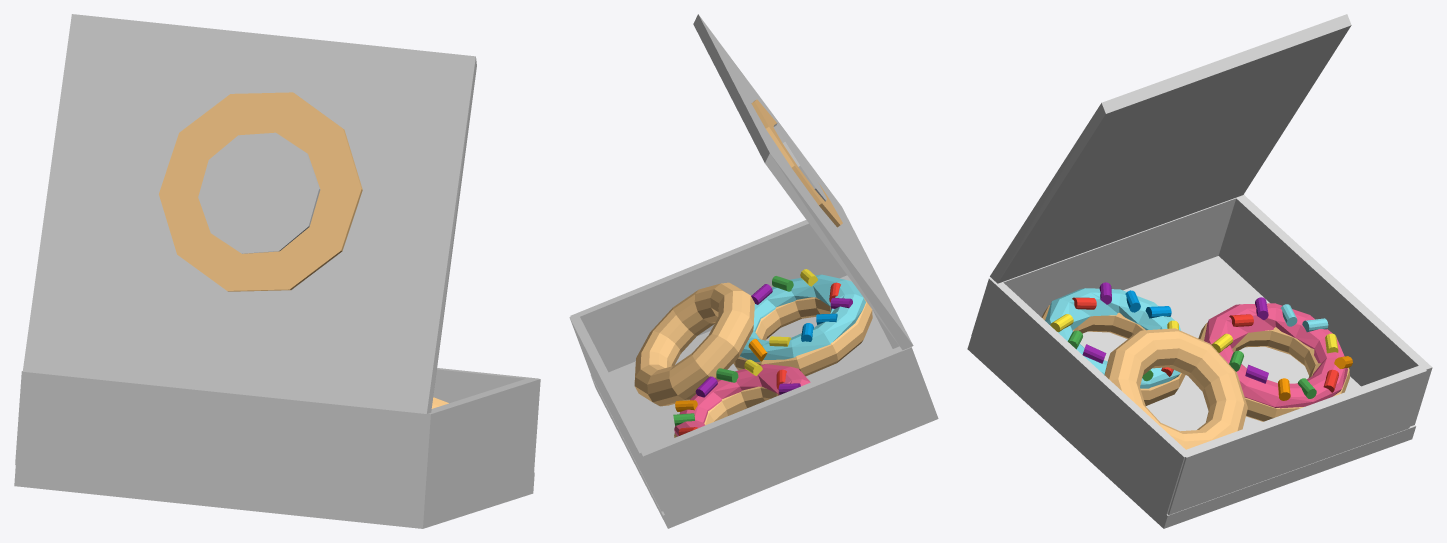
Rendered from BoxDonuts.glb.
The picture shows the model from 3 angles, left to right: view 1: azimuth 30°, elevation 25°; view 2: azimuth 150°, elevation 25°; view 3: azimuth 270°, elevation 25°; orthographic projection. The views are drawn at different scales.
Visible parts, largest first — view 1: group849833827, group1952452298, group1182562702, group1085159625, group297281961, group1280584653, group1599891818, group2139404716; view 2: group2139404716, group1085159625, group297281961, group1753688524, group1973894518, group849833827, group1120425736, group1599891818, group1182562702, group1952452298, group1280584653; view 3: group849833827, group297281961, group1085159625, group1599891818, group2139404716, group1120425736, group1952452298, group1973894518, group1753688524.
Boxes of the visible parts, bbox=[...] form: group849833827: bbox=[22, 14, 476, 413]; group1952452298: bbox=[15, 371, 419, 506]; group1182562702: bbox=[159, 92, 362, 291]; group1085159625: bbox=[412, 378, 540, 507]; group297281961: bbox=[14, 465, 534, 528]; group1280584653: bbox=[198, 132, 320, 253]; group1599891818: bbox=[433, 368, 537, 403]; group2139404716: bbox=[15, 371, 36, 466]; group2139404716: bbox=[641, 346, 923, 514]; group1085159625: bbox=[570, 220, 846, 372]; group297281961: bbox=[590, 275, 938, 528]; group1753688524: bbox=[733, 269, 872, 376]; group1973894518: bbox=[634, 282, 754, 406]; group849833827: bbox=[693, 14, 913, 350]; group1120425736: bbox=[673, 359, 810, 437]; group1599891818: bbox=[569, 316, 662, 511]; group1182562702: bbox=[751, 99, 842, 227]; group1952452298: bbox=[873, 310, 933, 409]; group1280584653: bbox=[773, 123, 826, 201]; group849833827: bbox=[990, 14, 1351, 283]; group297281961: bbox=[967, 256, 1416, 528]; group1085159625: bbox=[971, 278, 1190, 514]; group1599891818: bbox=[1168, 365, 1426, 514]; group2139404716: bbox=[1218, 195, 1432, 426]; group1120425736: bbox=[1198, 297, 1352, 421]; group1952452298: bbox=[999, 194, 1244, 317]; group1973894518: bbox=[1104, 328, 1247, 449]; group1753688524: bbox=[1041, 282, 1185, 405].
Bounding box in the file's own units: 0.5578 × 0.5256 × 0.5584.
